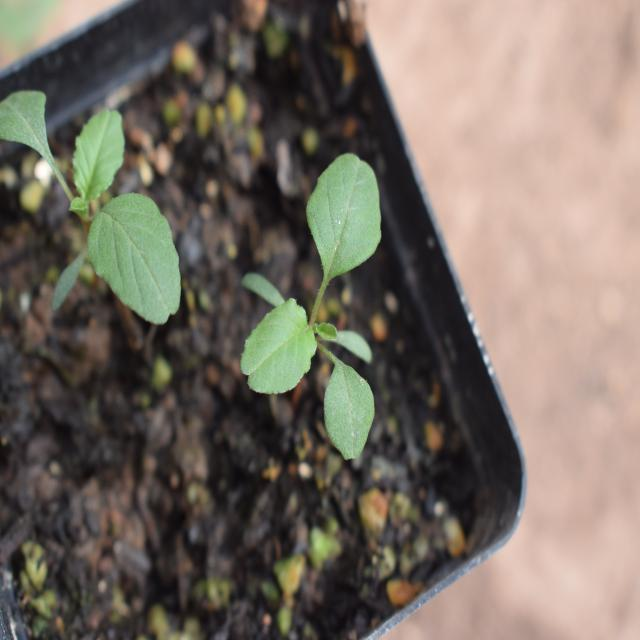pigweed: (228, 144, 398, 472), (0, 88, 196, 327)
